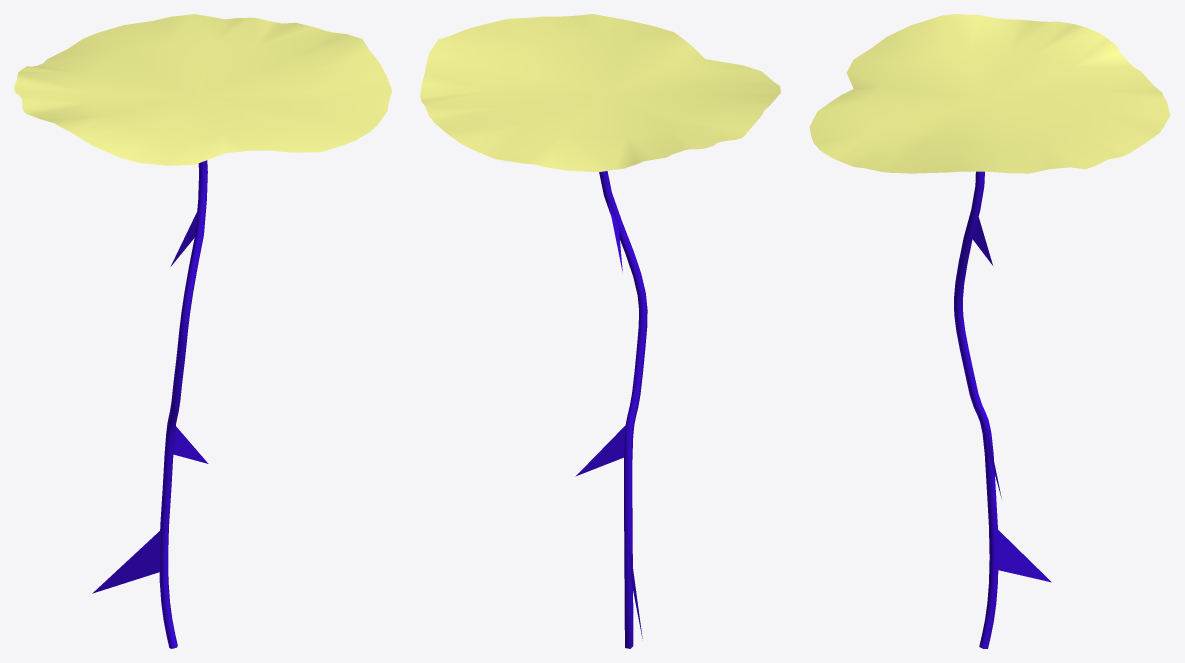
The model's file is Lotus_B.FBX.
3 views of the same model, side by side, from view 1: azimuth 30°, elevation 25°; view 2: azimuth 150°, elevation 25°; view 3: azimuth 270°, elevation 25° (orthographic).
Visible parts, largest first — view 1: Geometry_Lotus_E_LOD00; view 2: Geometry_Lotus_E_LOD00; view 3: Geometry_Lotus_E_LOD00.
Boxes of the visible parts, x1,y1,x2,y2 form: Geometry_Lotus_E_LOD00: (14,14,391,648); Geometry_Lotus_E_LOD00: (420,14,780,648); Geometry_Lotus_E_LOD00: (809,14,1170,648).
Size of what is drawn, in the model's own units: 54.28 by 90.85 by 52.02.
